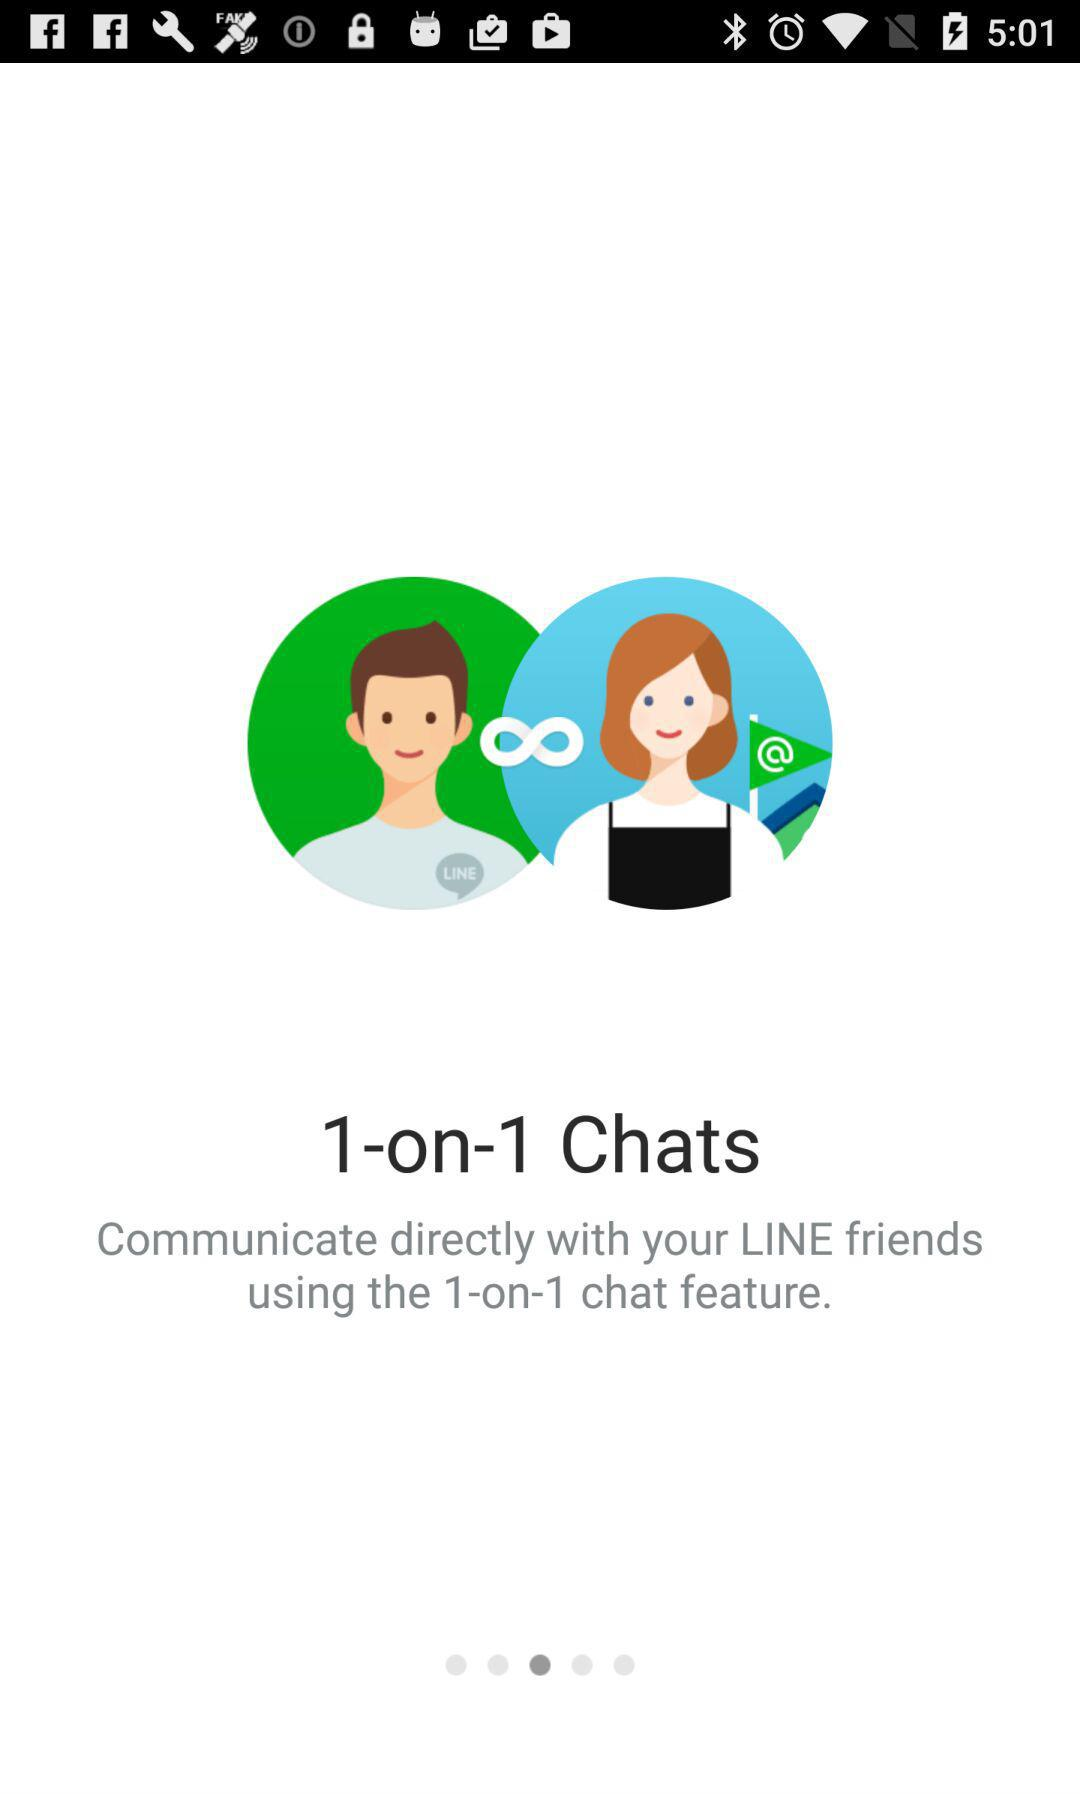Image: (249, 575, 834, 912)
PageIndicator: (445, 1653, 637, 1677)
Text: (97, 1219, 983, 1319), (325, 1112, 760, 1175)
UpperTaskBar: (1, 1, 1080, 64)
